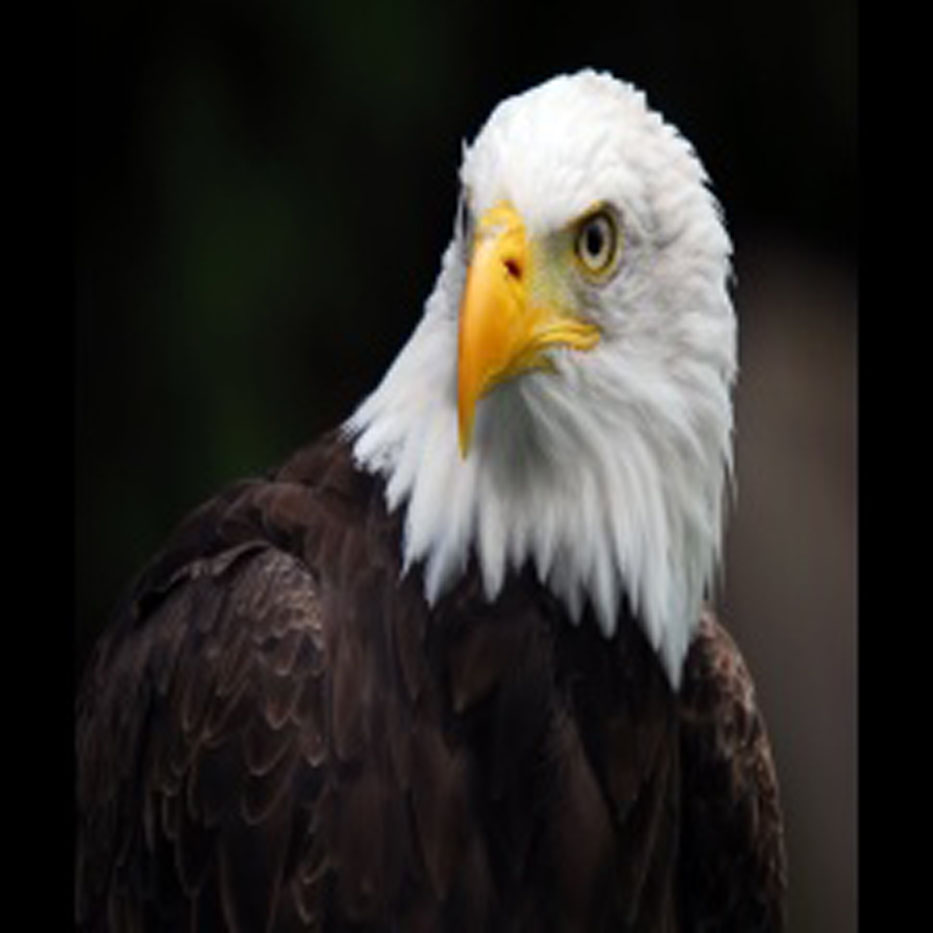Pengoyak Daging: (422, 206, 584, 469)
